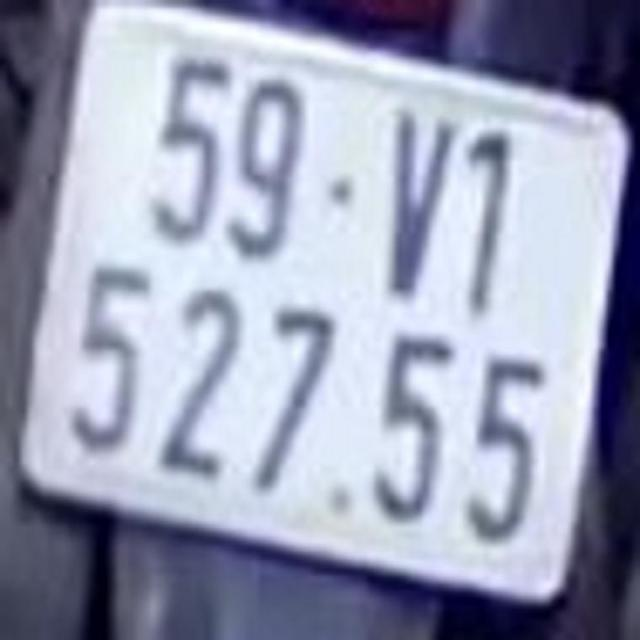1: (460, 122, 516, 313)
2: (158, 281, 244, 489)
5: (148, 42, 230, 253), (466, 343, 548, 548), (70, 257, 151, 457), (375, 324, 453, 522)
7: (252, 302, 336, 492)
9: (232, 67, 306, 263)
V: (374, 102, 456, 308)
